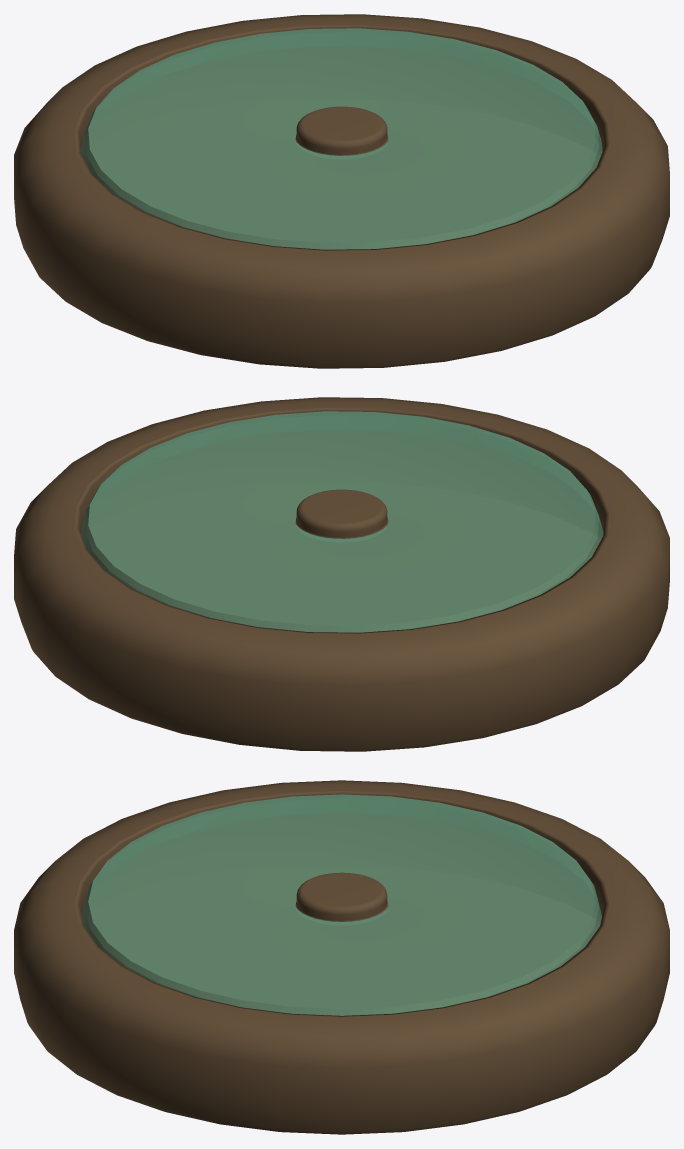
Rendered from TravelPointNew.fbx.
The picture shows the model from 3 angles, top to bottom: view 1: azimuth 30°, elevation 25°; view 2: azimuth 150°, elevation 25°; view 3: azimuth 270°, elevation 25°; orthographic projection.
Parts seen in each view (by area): view 1: pCylinder1; view 2: pCylinder1; view 3: pCylinder1.
Part boxes in pixels (<box>): pCylinder1: <box>14,14,669,368</box>; pCylinder1: <box>14,397,669,751</box>; pCylinder1: <box>14,780,669,1134</box>.
Bounding box in the file's own units: 9.61 × 1.81 × 9.61.
